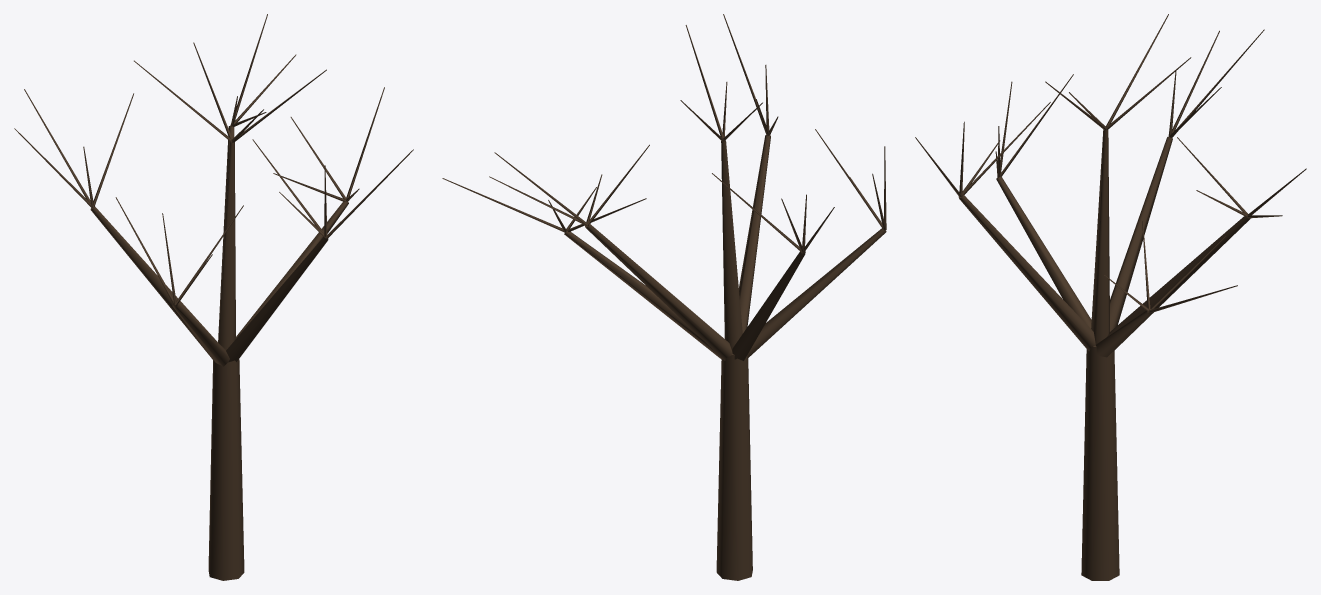
Rendered from tree-lime-2-bare.glb.
3 renders of one model, left to right at view 1: azimuth 30°, elevation 25°; view 2: azimuth 150°, elevation 25°; view 3: azimuth 270°, elevation 25°, orthographic. The views are drawn at different scales.
Visible parts, largest first — view 1: 00_#4a3a2c; view 2: 00_#4a3a2c; view 3: 00_#4a3a2c.
Part boxes in pixels (box(x1,y1,x2,y2)): 00_#4a3a2c: box(14, 14, 413, 580); 00_#4a3a2c: box(442, 14, 886, 580); 00_#4a3a2c: box(915, 14, 1306, 580).
Bounding box in the file's own units: 8.46 × 10.75 × 7.2.
